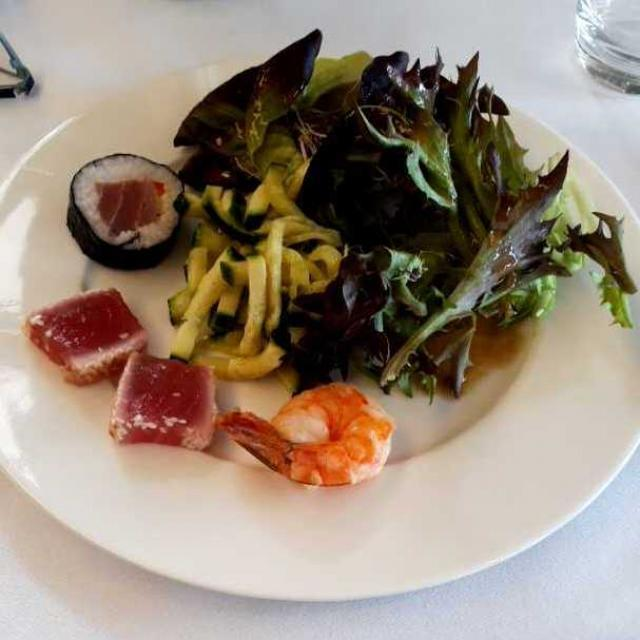salad: (169, 32, 623, 394)
shrimp: (226, 382, 398, 517)
sushi: (36, 142, 191, 280)
tuna: (12, 269, 220, 464)
zucchini: (162, 150, 351, 381)
